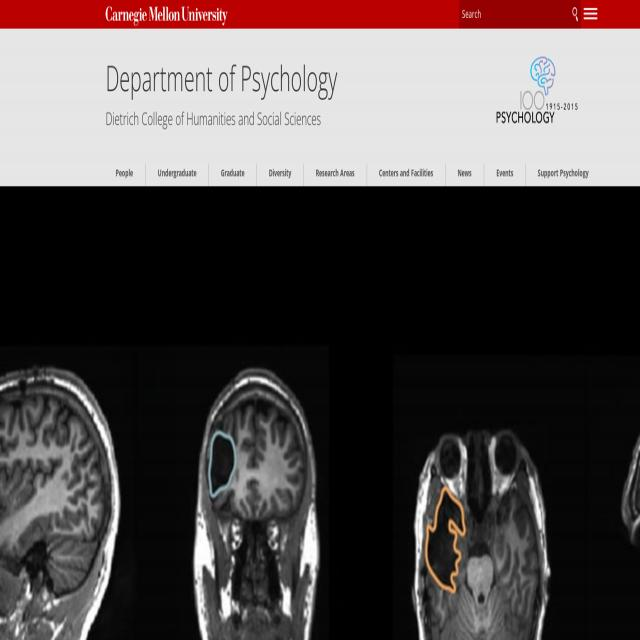button: (367, 164, 445, 186), (524, 164, 602, 186), (304, 163, 366, 187), (145, 162, 208, 185), (209, 162, 256, 186), (257, 162, 303, 186), (104, 162, 145, 186), (446, 164, 484, 187), (484, 164, 525, 185), (580, 0, 601, 27), (569, 0, 581, 29)
field: (460, 0, 570, 27)
